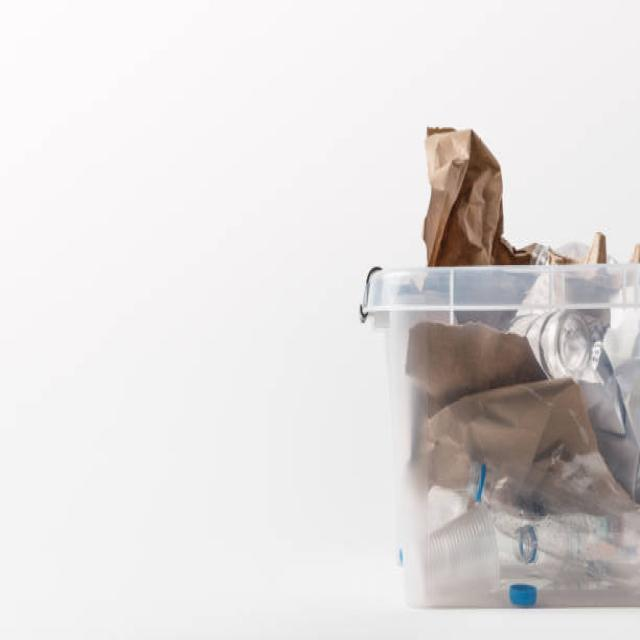paper: (417, 119, 599, 268)
